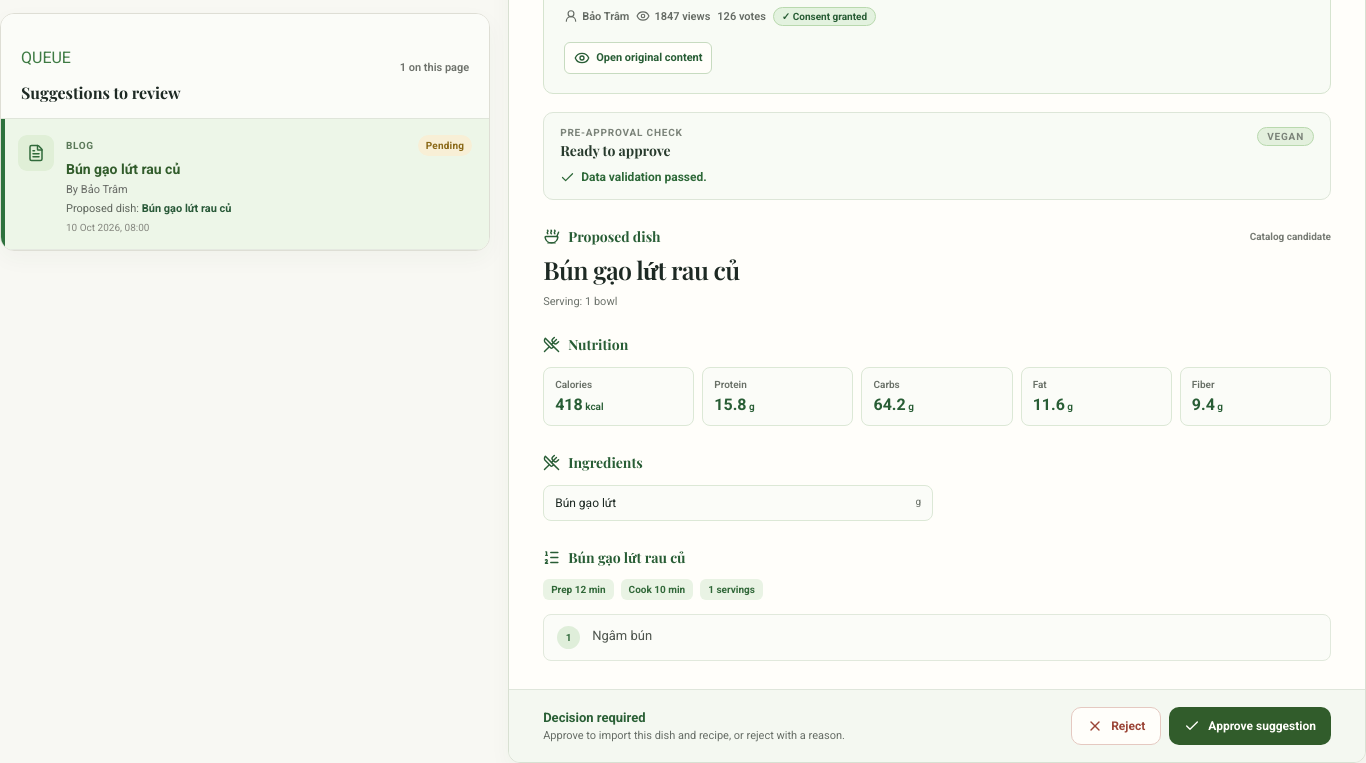
Test: admin recipe suggestion review (NB-87) › shows server validation issues when approval is rejected with 422
(page scrolled)
Click the button "Approve suggestion" at (1250, 726), box [1169, 707, 1331, 745]
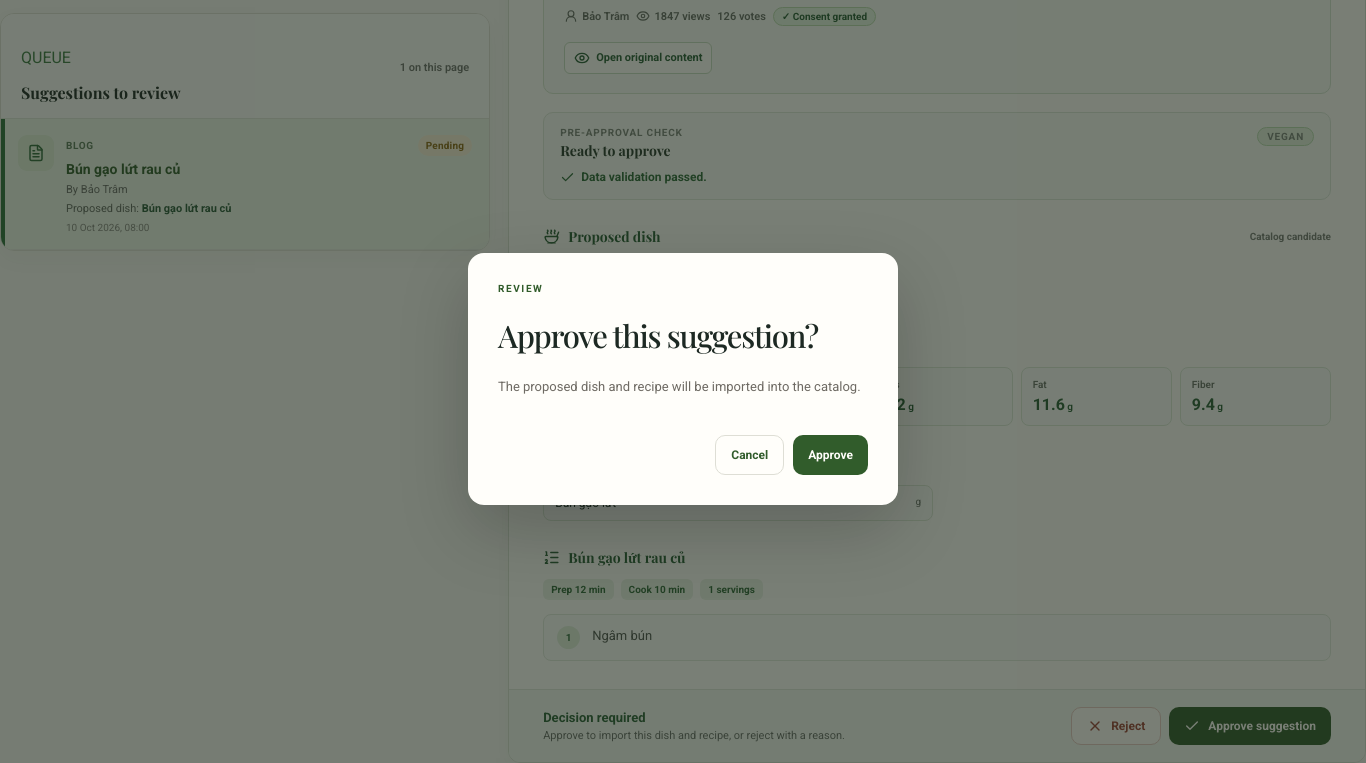
Click the button "Approve" at (831, 455), box [793, 435, 868, 475]
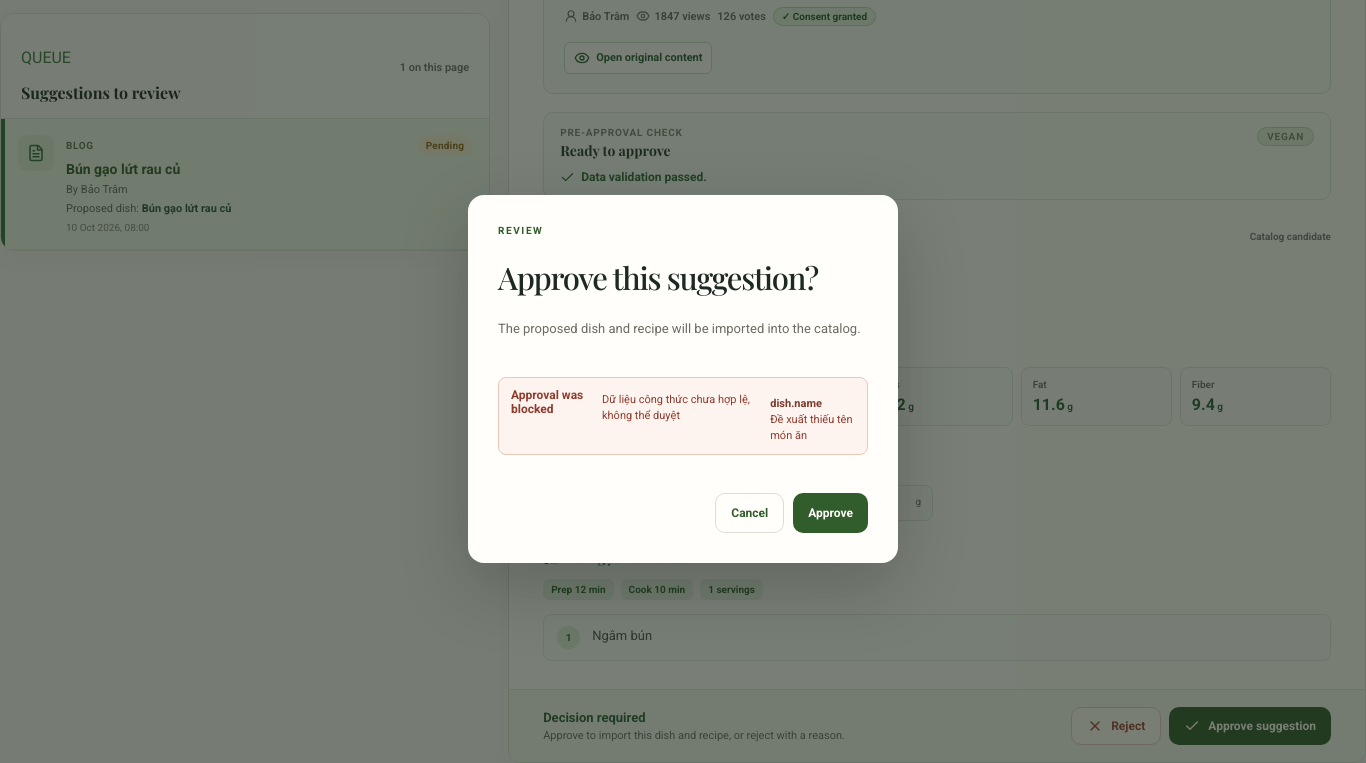
Now the message shows "Approval was blocked", box [511, 388, 583, 416]
Now the message shows "Dữ liệu công thức chưa hợp lệ, không thể duyệt", box [602, 393, 750, 422]
Now the message shows "dish.name", box [770, 397, 822, 410]
